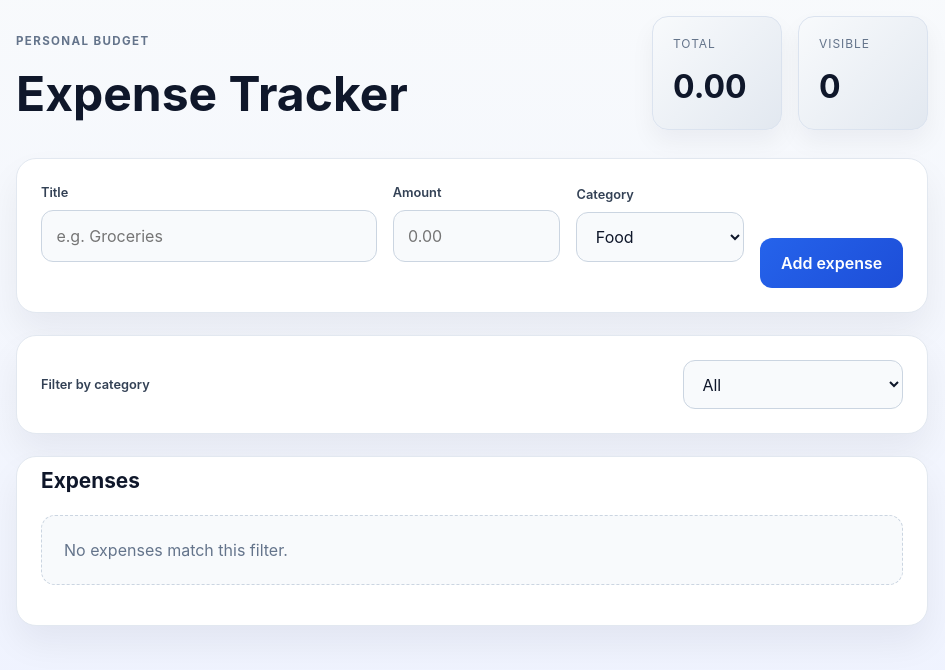
Expense tracker app › rejects negative amounts
Type "Cab" into the field labelled "Title".
click(209, 236); type("Cab")  # box [41,210,377,262]
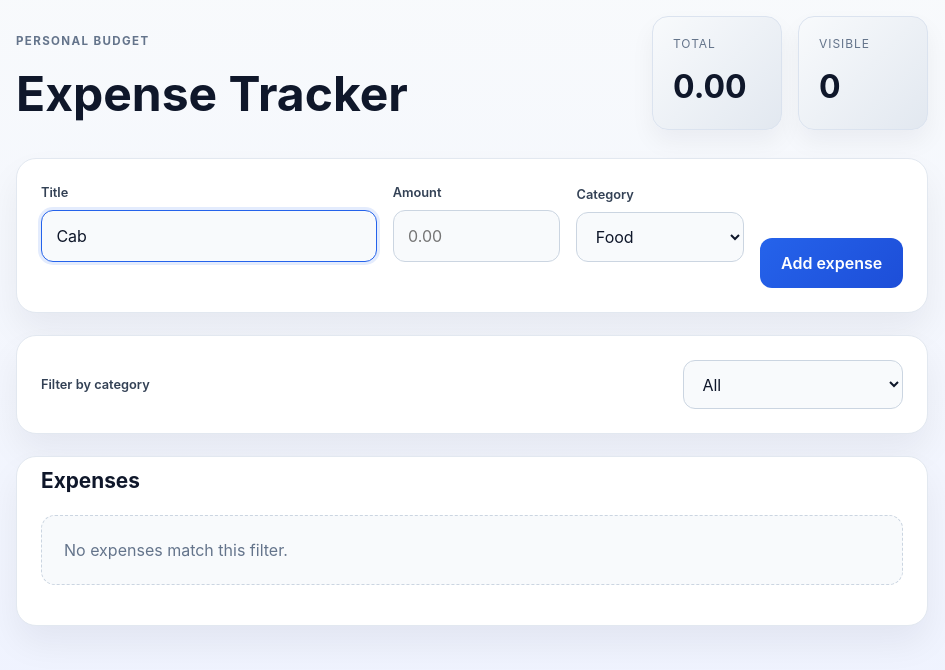
Type "-50" into the number field labelled "Amount".
click(476, 236); type("-50")  # box [393,210,560,262]
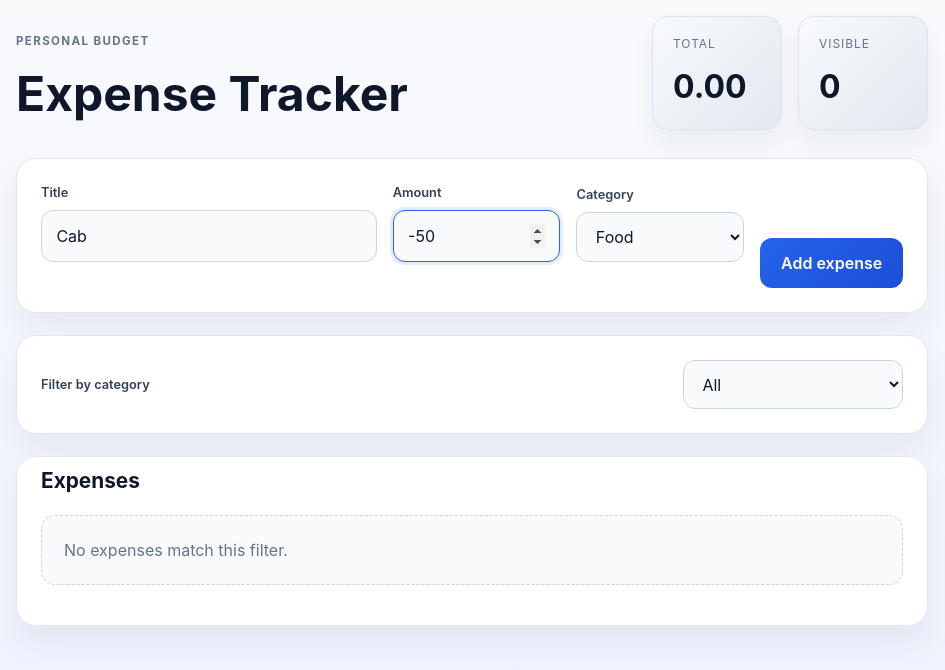
Click the button "Add expense".
click(832, 263)  # box [760,238,903,288]
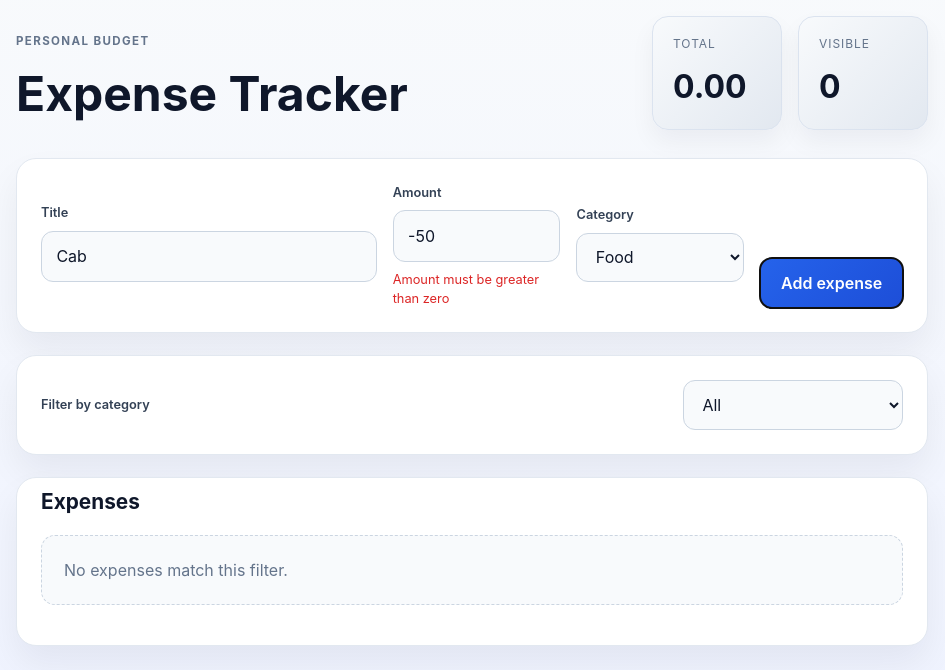
Check: the text "Amount must be greater than zero" is shown, box [393,270,560,308]
